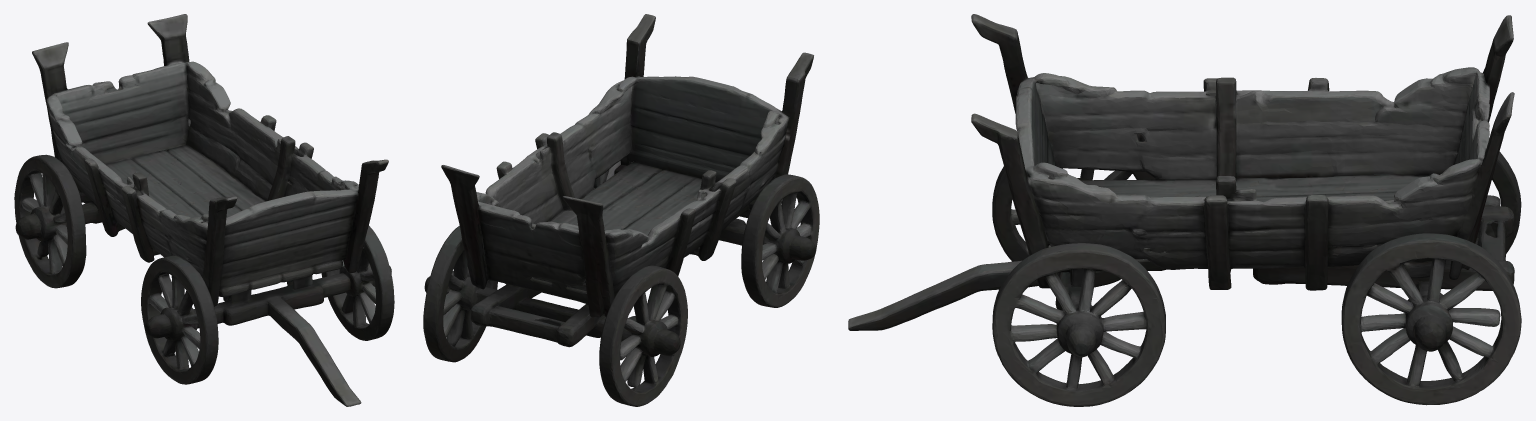
File: bog_cart_01.glb
The picture shows the model from 3 angles, left to right: view 1: azimuth 30°, elevation 25°; view 2: azimuth 150°, elevation 25°; view 3: azimuth 270°, elevation 25°; orthographic projection. The views are drawn at different scales.
Parts seen in each view (by area): view 1: geometry_0; view 2: geometry_0; view 3: geometry_0.
Part boxes in pixels (x1,y1,x2,y2): geometry_0: (14, 14, 394, 406); geometry_0: (423, 14, 819, 406); geometry_0: (848, 14, 1521, 406).
Size of the model in its own units: 0.5617 by 0.4586 by 1.
Materials: 1 (1 with a texture image).
